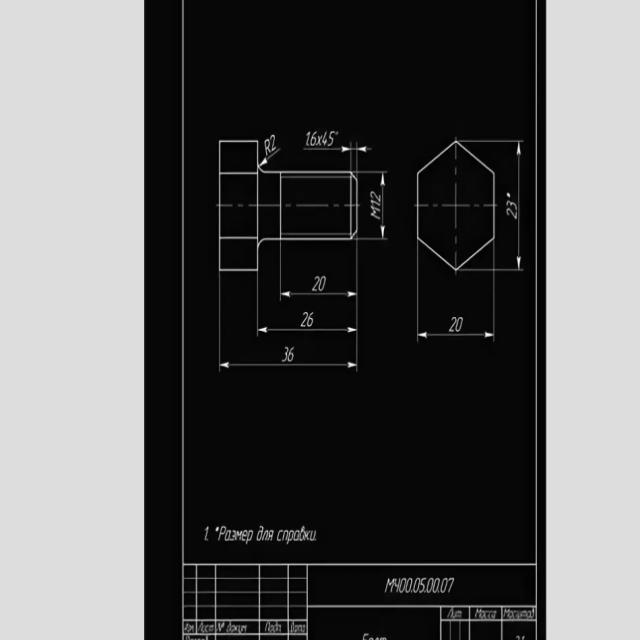marking_line: (220, 361, 357, 370), (260, 326, 357, 335), (516, 142, 521, 268), (418, 331, 493, 339), (280, 291, 356, 297), (380, 172, 387, 237), (305, 146, 349, 153), (358, 144, 372, 153)
numeric: (310, 131, 320, 148), (281, 344, 289, 363), (455, 316, 463, 335), (328, 131, 337, 147), (306, 312, 315, 328), (371, 189, 382, 202), (506, 208, 517, 221), (505, 199, 518, 210), (269, 136, 279, 150), (300, 310, 307, 329), (312, 275, 320, 291), (319, 274, 326, 292), (449, 316, 456, 333), (305, 131, 311, 150), (322, 131, 328, 147), (288, 346, 294, 362), (370, 199, 381, 206)
special_symbol: (261, 148, 279, 168)
